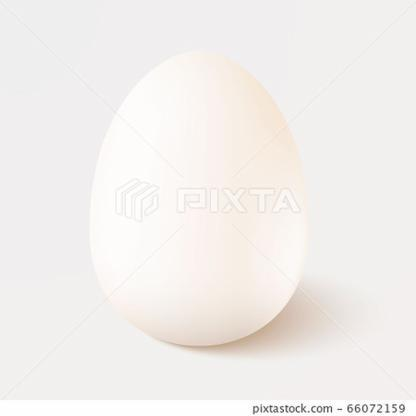egg: (87, 49, 312, 348)
